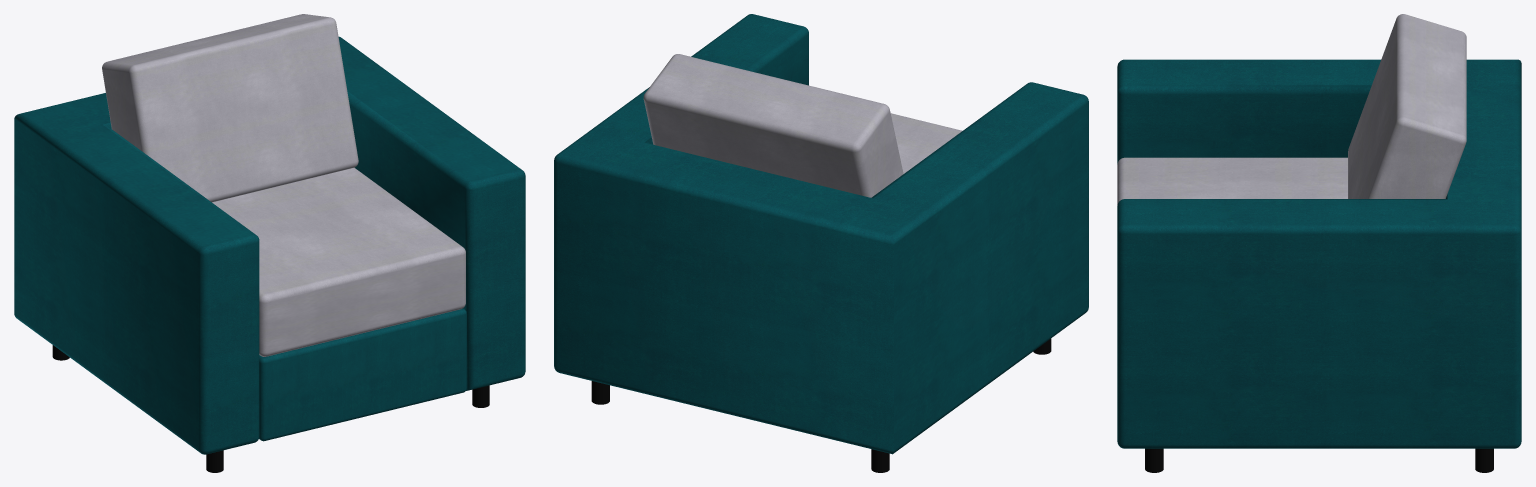
Rendered from SIENNA CHAIR.FBX.
3 renders of one model, left to right at view 1: azimuth 30°, elevation 25°; view 2: azimuth 150°, elevation 25°; view 3: azimuth 270°, elevation 25°, orthographic. The views are drawn at different scales.
Parts seen in each view (by area): view 1: Object053, Object056, Object055, Object054, SIENNA CHAIR; view 2: Object053, Object056, Object055, SIENNA CHAIR; view 3: Object053, Object056, Object055, SIENNA CHAIR.
Part boxes in pixels (x1,y1,x2,y2): Object053: (14, 36, 525, 454); Object056: (102, 14, 358, 202); Object055: (212, 167, 465, 356); Object054: (259, 308, 466, 441); SIENNA CHAIR: (52, 345, 489, 472); Object053: (554, 14, 1088, 454); Object056: (643, 54, 903, 197); Object055: (890, 113, 962, 173); SIENNA CHAIR: (591, 338, 1051, 472); Object053: (1117, 59, 1521, 448); Object056: (1348, 14, 1466, 198); Object055: (1117, 157, 1347, 205); SIENNA CHAIR: (1145, 448, 1493, 472).
Size of the model in its own units: 820 by 747 by 820.
Materials: 3 (2 with a texture image).
